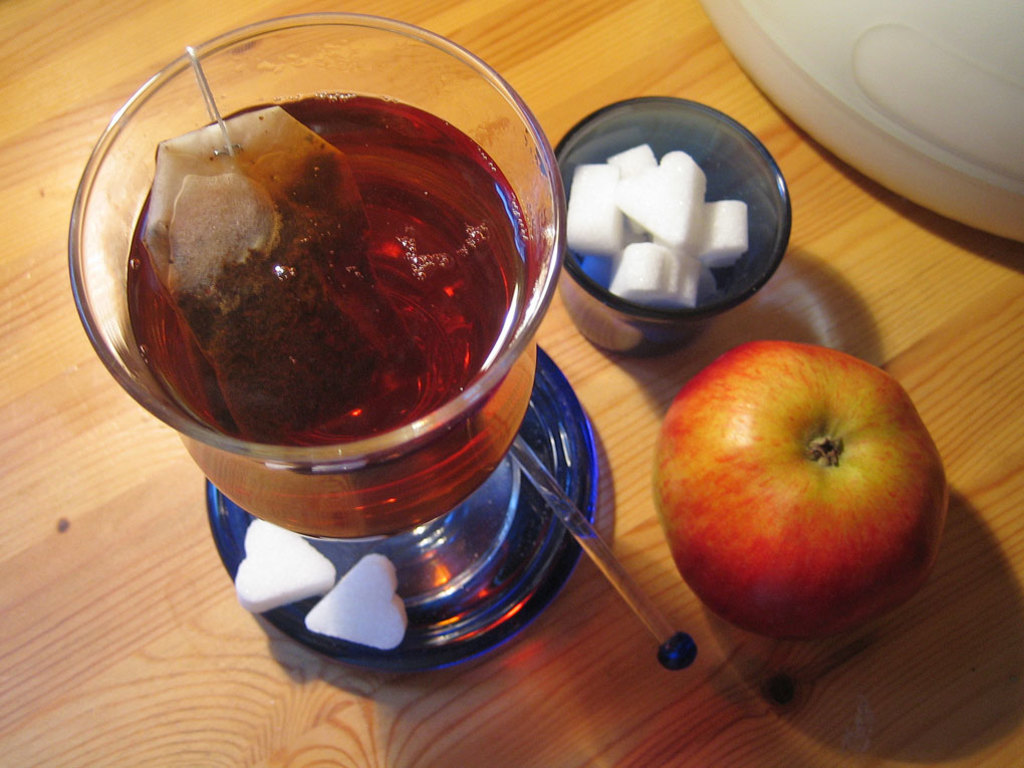Apple: (651, 337, 940, 640)
